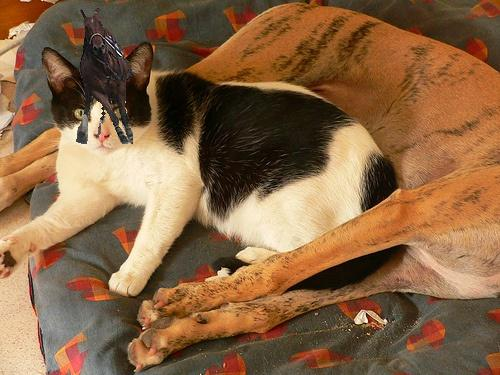tampered: (77, 9, 133, 144)
